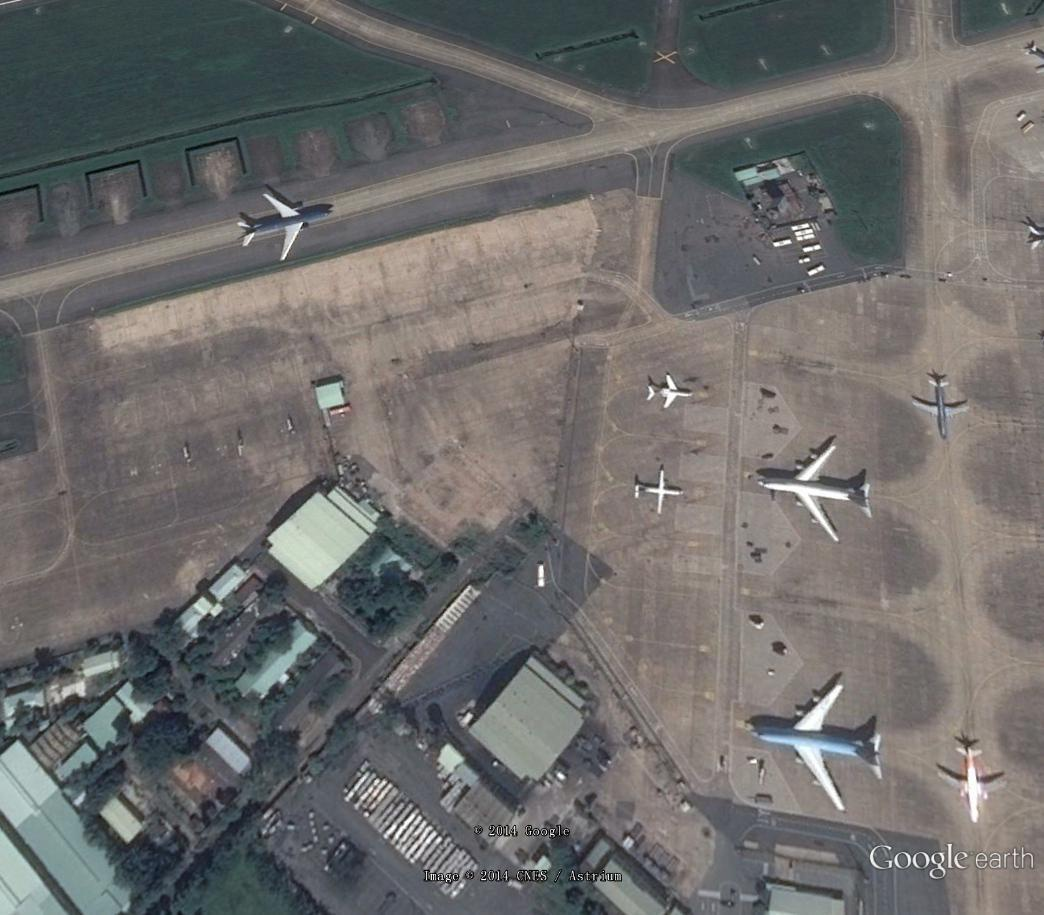aircraft: (745, 678, 891, 822), (753, 436, 883, 547), (232, 190, 342, 270), (927, 736, 1015, 828), (909, 366, 973, 441), (631, 460, 690, 522), (642, 367, 699, 414)
